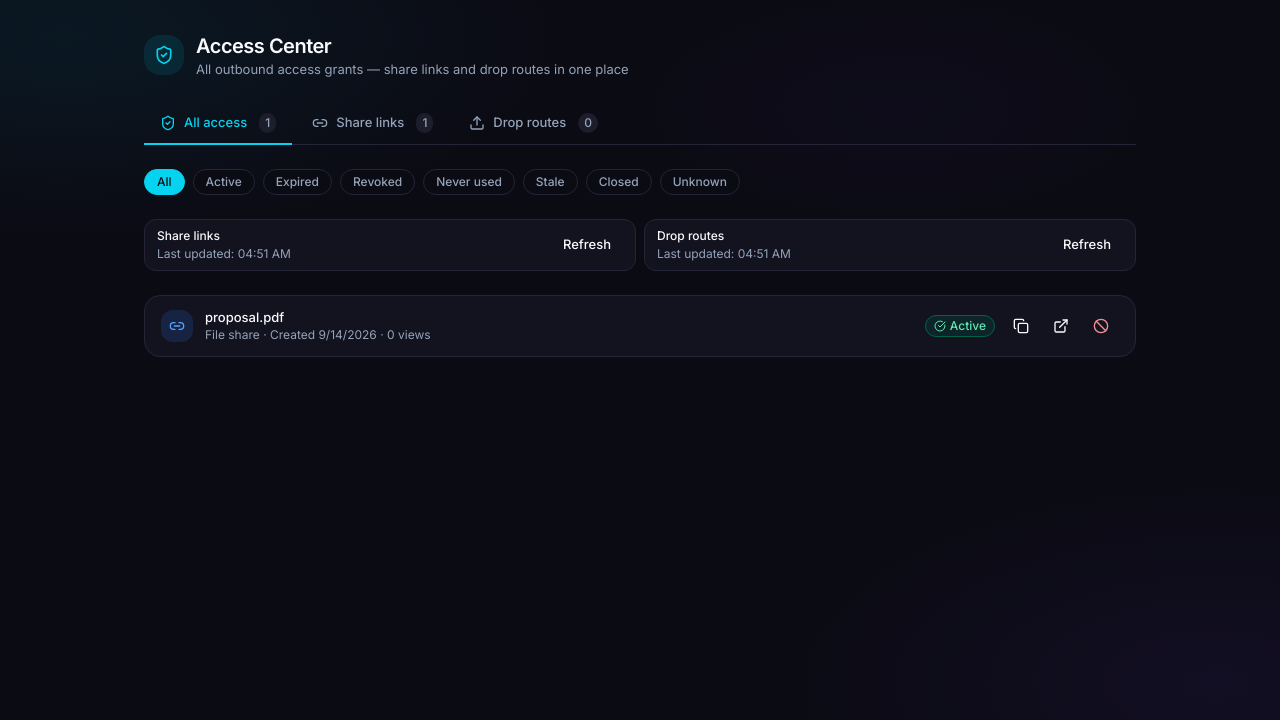
AccessCenter truthful source states › requires confirmation and preserves the confirmed row when revocation fails
expect the text "proposal.pdf" is shown: met, box x1=205 y1=309 x2=284 y2=325
What coordinates should you click on to do the following:
click the button named "Revoke proposal.pdf link"
I would click on:
 (1101, 326)
Its box is x1=1083 y1=308 x2=1119 y2=344.
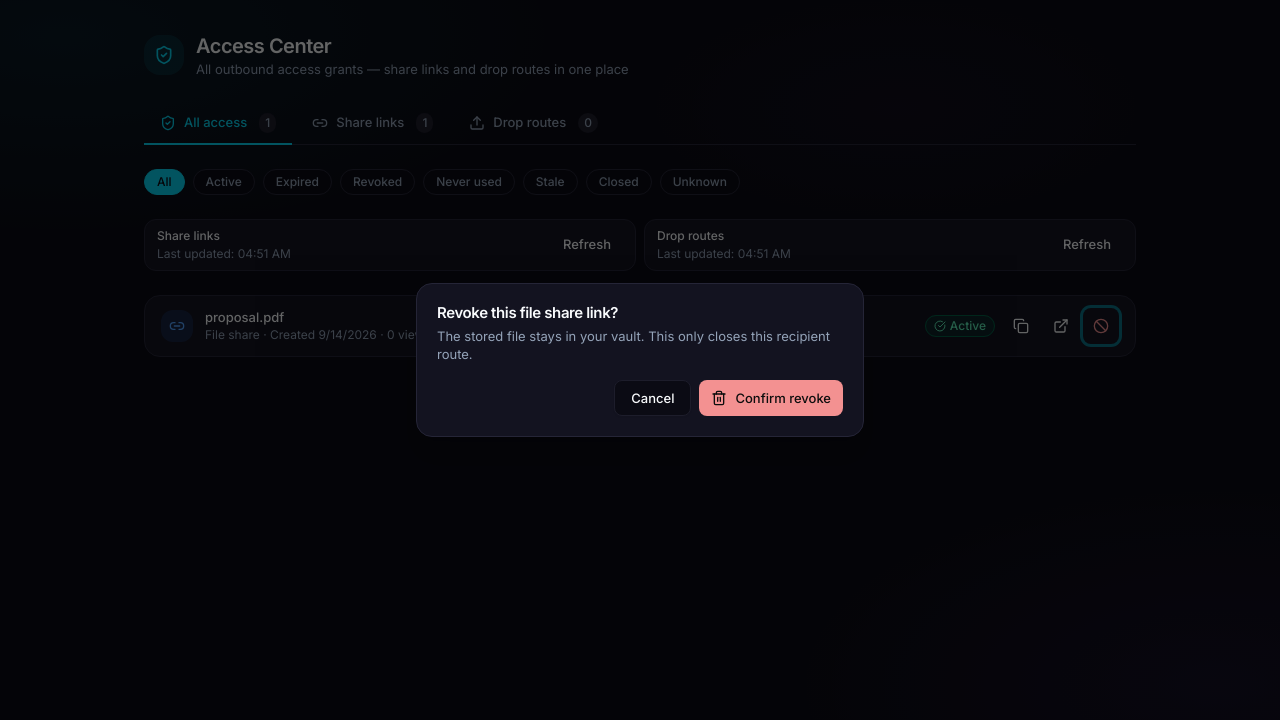
expect the heading "Revoke this file share link?" is shown: met, box x1=437 y1=303 x2=618 y2=322
What coordinates should you click on to do the following:
click the button "Confirm revoke"
I would click on:
 (771, 398)
Its box is x1=700 y1=380 x2=843 y2=416.
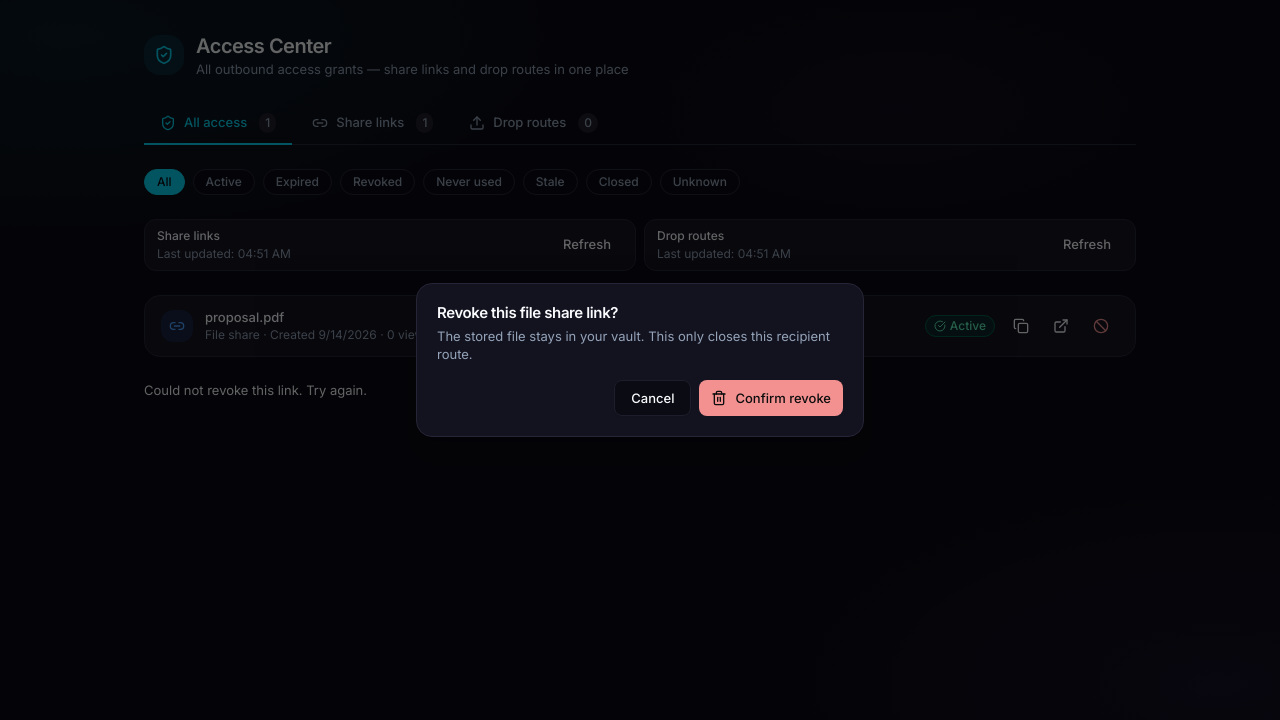
expect the text "proposal.pdf" is shown: met, box x1=205 y1=309 x2=284 y2=325
expect the text "Could not revoke this link. Try again." is shown: met, box x1=144 y1=382 x2=367 y2=398
